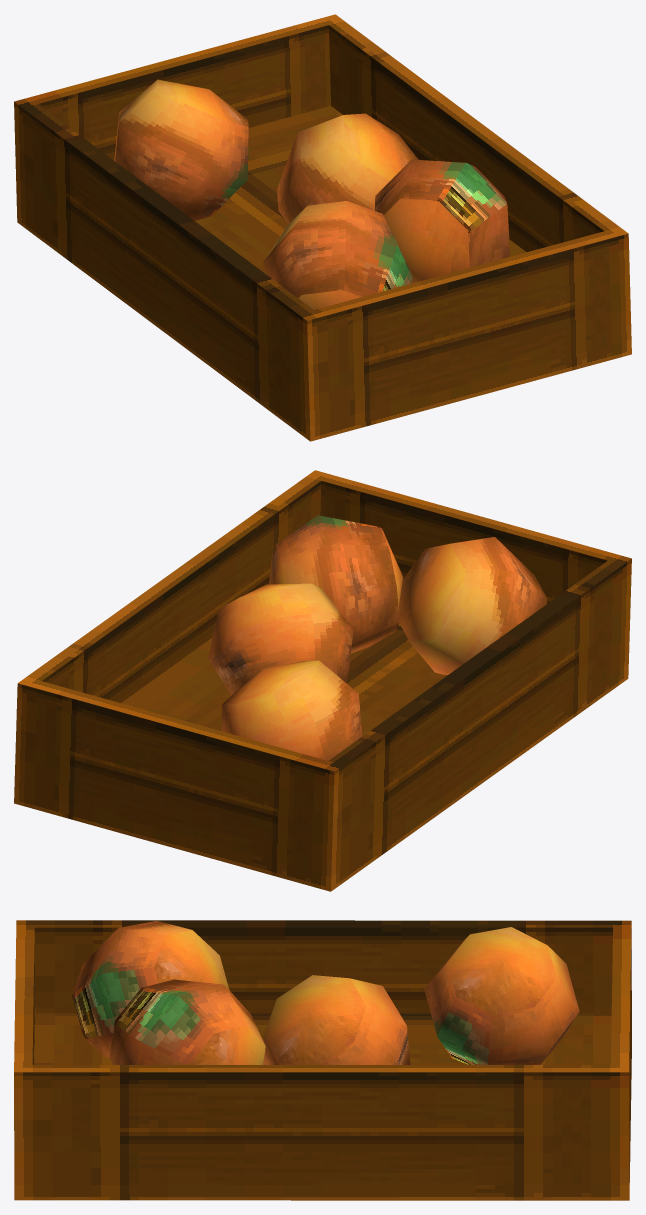
The model's file is INST_HTOWN_BOXOFORANGES.obj.
3 renders of one model, top to bottom at view 1: azimuth 30°, elevation 25°; view 2: azimuth 150°, elevation 25°; view 3: azimuth 270°, elevation 25°, orthographic. The views are drawn at different scales.
Parts seen in each view (by area): view 1: Box01, orange, orange03, orange02, orange01; view 2: Box01, orange02, orange01, orange03, orange; view 3: Box01, orange, orange01, orange03, orange02.
Part boxes in pixels (bbox=[...]): Box01: bbox=[14, 14, 631, 441]; orange: bbox=[114, 79, 248, 220]; orange03: bbox=[374, 159, 510, 283]; orange02: bbox=[263, 201, 413, 309]; orange01: bbox=[277, 113, 418, 224]; Box01: bbox=[14, 470, 631, 891]; orange02: bbox=[396, 537, 547, 674]; orange01: bbox=[208, 583, 353, 695]; orange03: bbox=[269, 515, 403, 653]; orange: bbox=[221, 660, 362, 760]; Box01: bbox=[14, 920, 631, 1200]; orange: bbox=[424, 927, 579, 1064]; orange01: bbox=[263, 975, 410, 1064]; orange03: bbox=[109, 979, 265, 1064]; orange02: bbox=[72, 921, 229, 1057].
Bounding box in the file's own units: 42.52 × 20.44 × 67.05.
